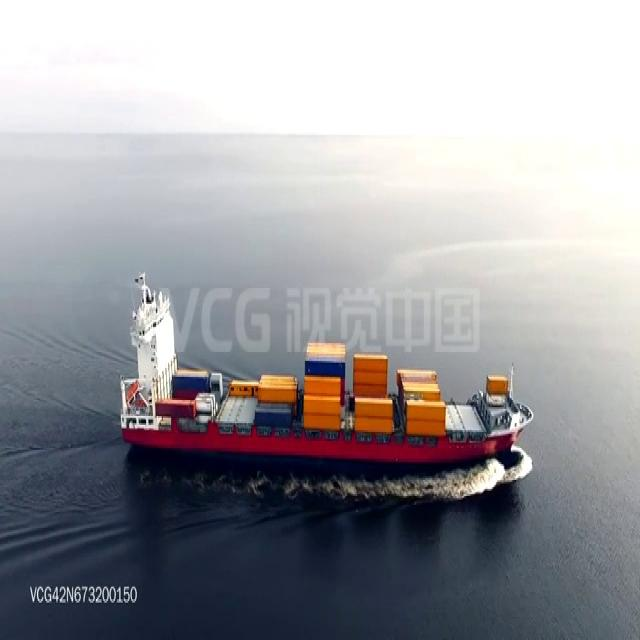cargoship: (117, 270, 530, 465)
